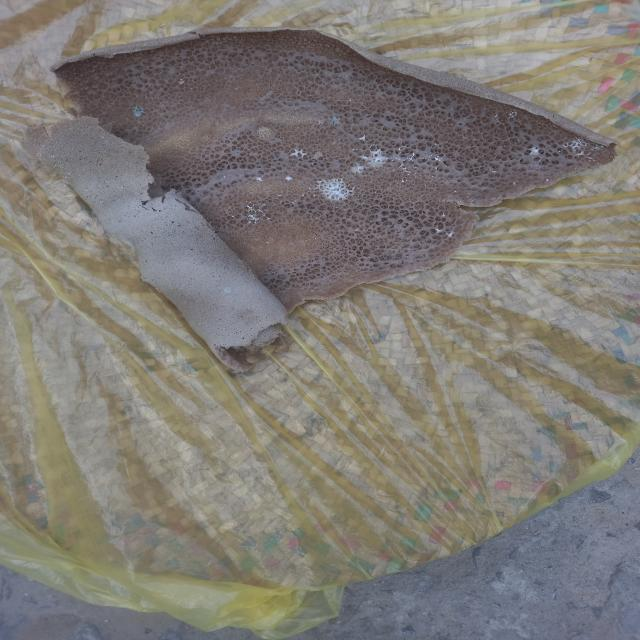injera_mold: (352, 149, 394, 174), (316, 176, 352, 203), (238, 200, 263, 226), (562, 138, 605, 152), (287, 145, 309, 159), (325, 114, 344, 128), (524, 145, 542, 158), (400, 166, 410, 184), (505, 109, 518, 121), (432, 154, 444, 166), (433, 225, 444, 238), (405, 153, 417, 163), (251, 175, 268, 182), (134, 104, 142, 118), (493, 112, 501, 125), (283, 174, 293, 184), (511, 179, 521, 188), (446, 229, 454, 240), (356, 134, 368, 141), (586, 157, 598, 164), (439, 211, 448, 220), (397, 144, 407, 152), (431, 142, 442, 148), (419, 156, 428, 161), (54, 164, 65, 168), (224, 286, 230, 293), (37, 152, 43, 159), (452, 189, 460, 194), (544, 177, 550, 183), (230, 214, 236, 220), (397, 154, 401, 163), (100, 135, 106, 141), (279, 202, 287, 206), (424, 142, 429, 148), (272, 271, 278, 276), (266, 216, 271, 222), (190, 79, 196, 84), (434, 166, 440, 171), (491, 170, 498, 174), (295, 160, 302, 164), (557, 148, 561, 154), (278, 193, 282, 199), (306, 187, 312, 191), (63, 175, 67, 181), (311, 236, 317, 240), (413, 172, 417, 178), (222, 175, 227, 179), (576, 154, 586, 156), (290, 201, 295, 205), (536, 120, 541, 124), (547, 123, 552, 127), (398, 164, 407, 166), (414, 165, 418, 169), (301, 193, 305, 197), (266, 241, 270, 245), (343, 208, 347, 212), (179, 78, 184, 81), (50, 155, 55, 158), (209, 220, 212, 224), (315, 217, 319, 220), (374, 190, 377, 194), (431, 175, 435, 178), (548, 156, 552, 159), (353, 186, 355, 191), (300, 222, 303, 225), (476, 158, 479, 161), (503, 145, 506, 148), (473, 184, 477, 186), (482, 161, 486, 163), (538, 159, 542, 161), (466, 196, 470, 198), (482, 186, 486, 188), (496, 176, 498, 179), (504, 127, 507, 129), (515, 126, 518, 128), (369, 195, 374, 196), (506, 178, 508, 180), (472, 146, 474, 148), (471, 150, 473, 152), (484, 125, 487, 126), (316, 205, 318, 206)
